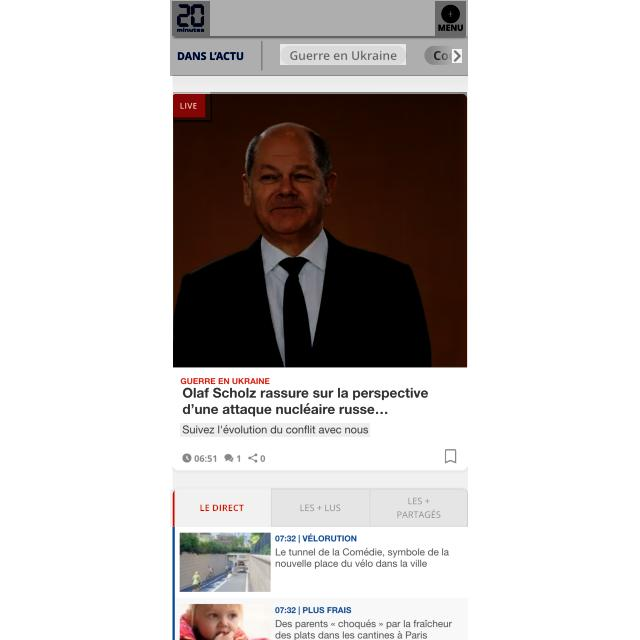Input field: (180, 423, 370, 437)
RadioButton: (174, 92, 212, 120)
bag: (170, 0, 468, 76)
breadcrumbs: (180, 375, 276, 387)
carousel: (442, 448, 460, 468), (452, 49, 462, 63)
copy: (173, 92, 467, 368), (180, 532, 270, 592)
date picker: (172, 1, 210, 36)
decoration: (435, 1, 466, 36)
icon: (170, 489, 467, 527)
illustration: (280, 44, 406, 65)
image: (178, 388, 430, 420)
